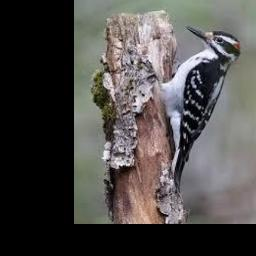Woodpecker: (159, 26, 240, 190)
